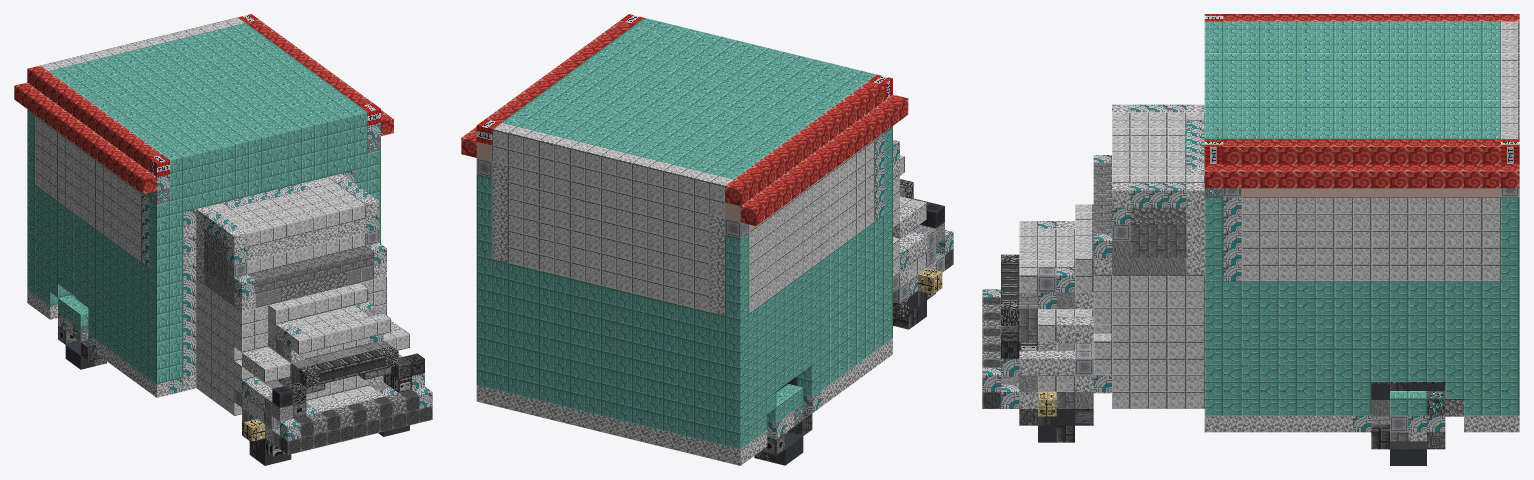
3 renders of one model, left to right at view 1: azimuth 30°, elevation 25°; view 2: azimuth 150°, elevation 25°; view 3: azimuth 270°, elevation 25°, orthographic. The views are drawn at different scales.
Visible parts, largest first — view 1: Remeshed_Object; view 2: Remeshed_Object; view 3: Remeshed_Object.
Part boxes in pixels (x1,y1,x2,y2): Remeshed_Object: (14, 14, 432, 465); Remeshed_Object: (461, 14, 953, 465); Remeshed_Object: (982, 14, 1519, 465).
Size of the model in its own units: 2.32 by 2.32 by 3.54.
Materials: 1 (1 with a texture image).
